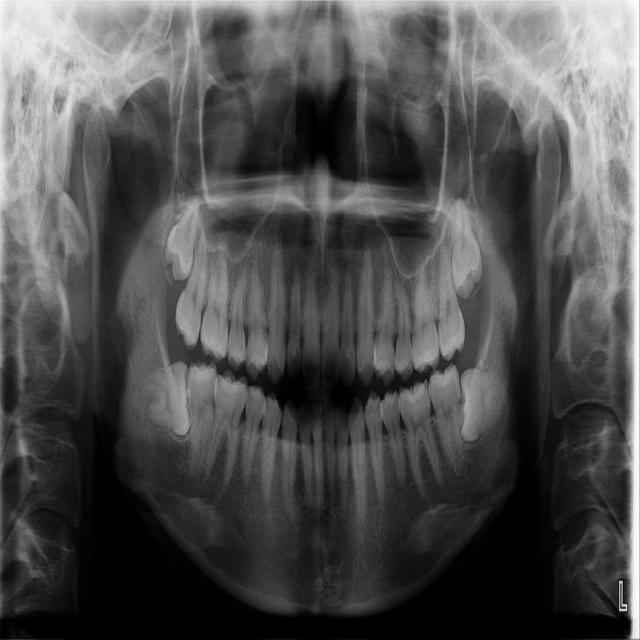3M ESPE Implant: (160, 192, 204, 283)
52: (409, 395, 426, 410)
73: (610, 586, 612, 594)
BioHorizons Implant: (431, 238, 468, 363)
BioLife Implant: (448, 197, 484, 300)
Biomet 3i Implant: (454, 366, 509, 446)
Blue Sky Bio Implant: (426, 362, 467, 475)
Caries: (171, 221, 212, 352)
Implant: (181, 359, 220, 476)
Keystone Dental Implant: (142, 360, 194, 437)
